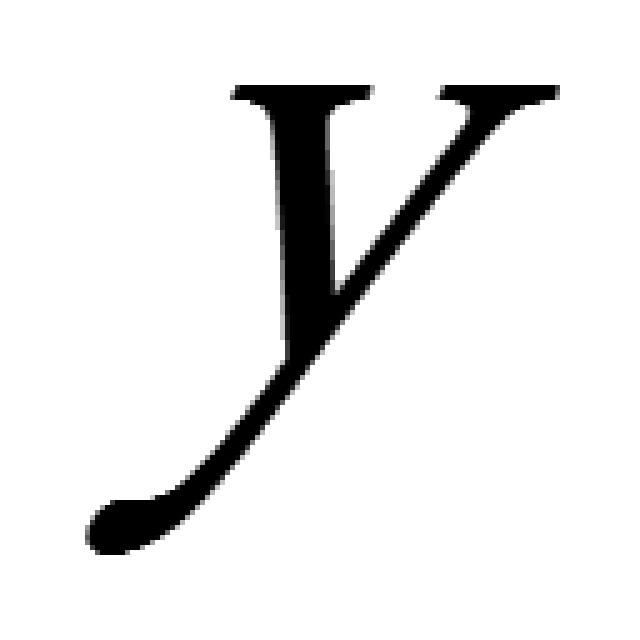Y: (80, 65, 565, 555)
